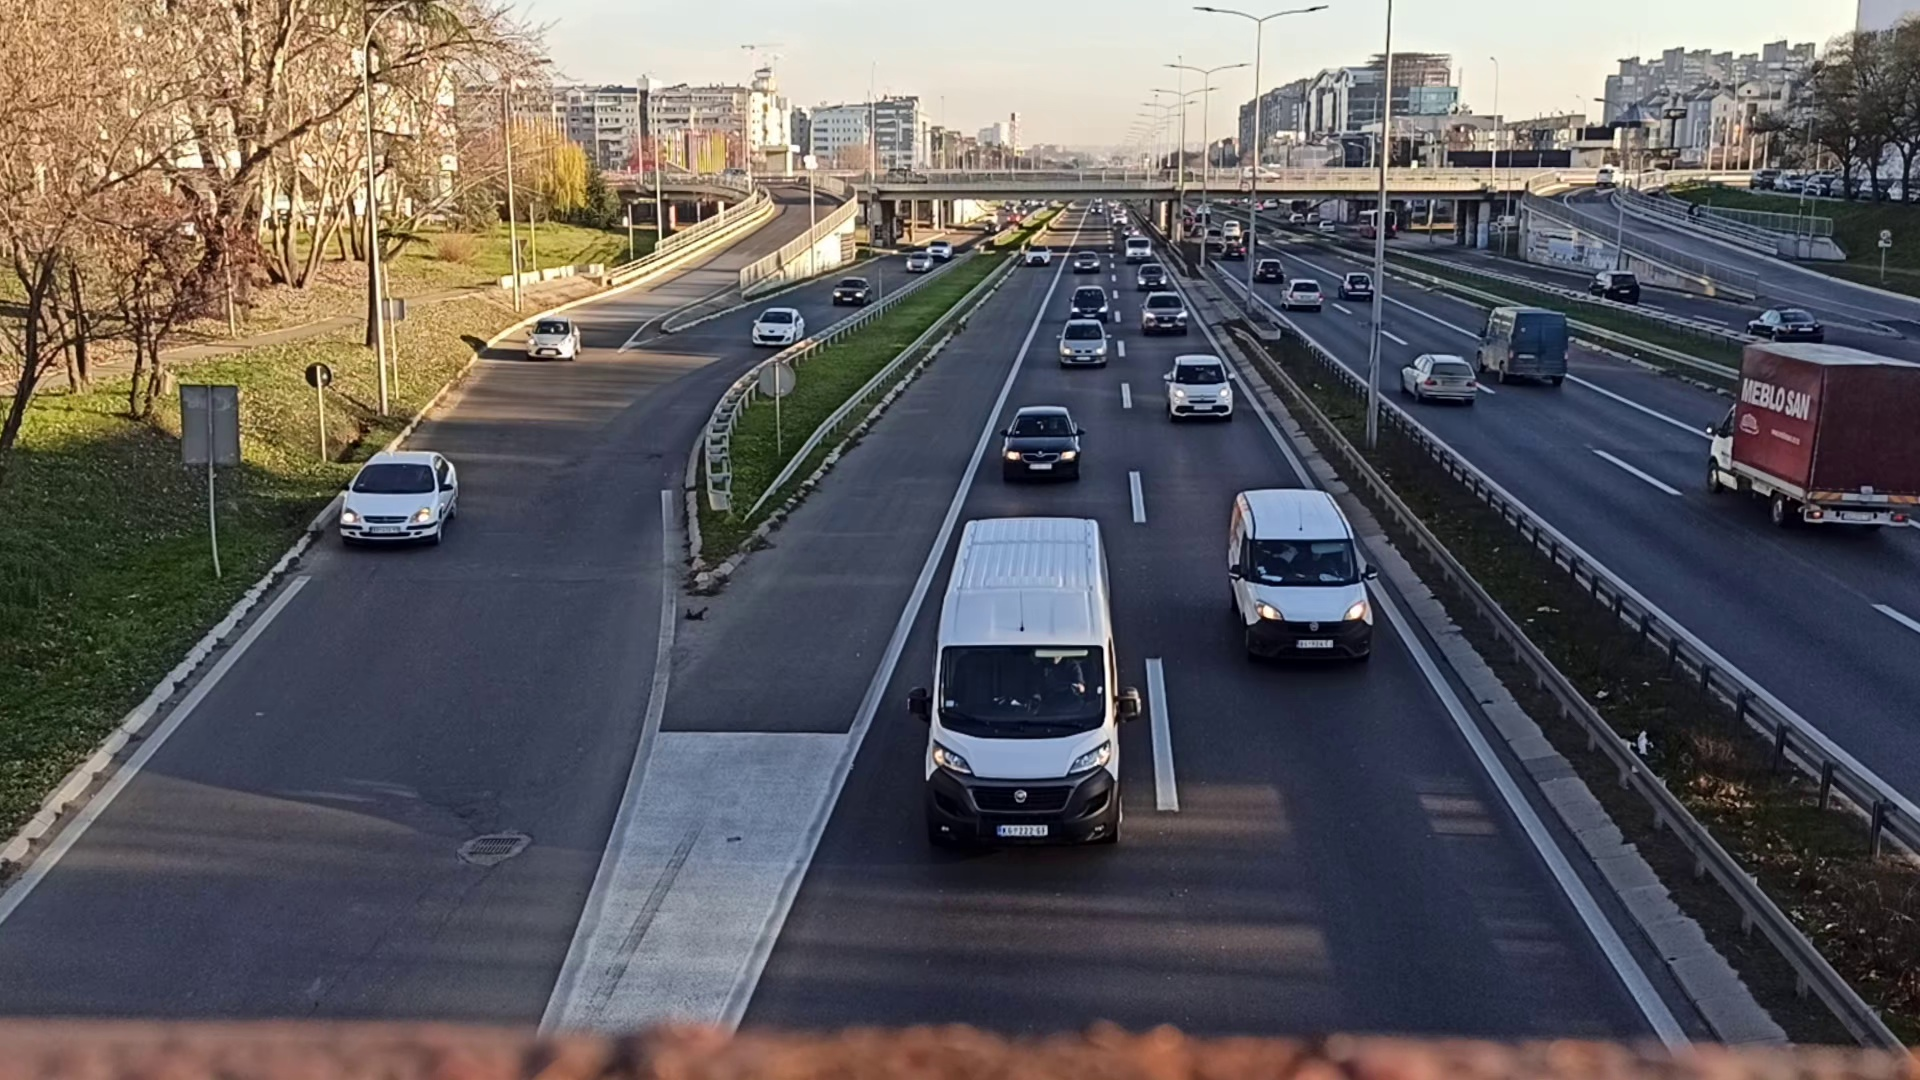car: (342, 455, 463, 545), (1000, 400, 1080, 485), (1164, 347, 1238, 425), (1395, 349, 1472, 404), (525, 319, 584, 367), (752, 301, 804, 347), (1062, 320, 1110, 367), (1139, 291, 1189, 335), (1073, 284, 1112, 322), (1279, 274, 1317, 311), (833, 276, 869, 311), (1340, 274, 1370, 299), (1021, 241, 1050, 264), (1075, 248, 1100, 272)
truck: (1702, 338, 1920, 539)
van: (935, 516, 1137, 853), (1224, 495, 1377, 675), (1474, 301, 1567, 389)
